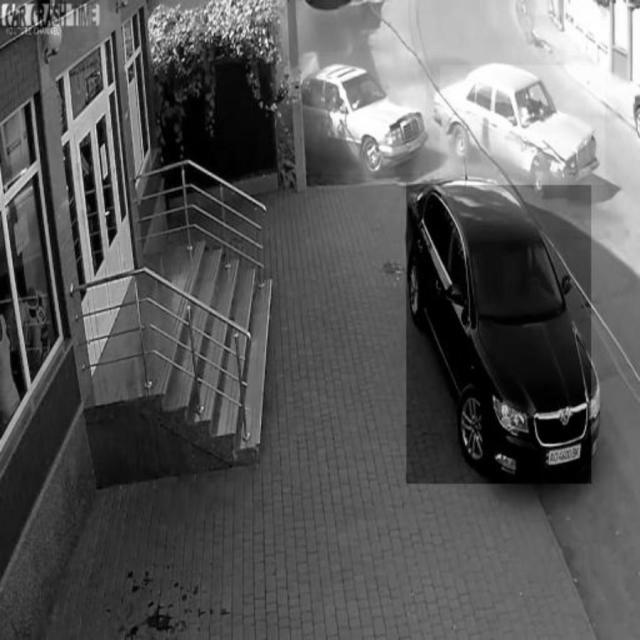vehicle: (406, 184, 591, 484), (440, 65, 605, 185), (302, 52, 426, 174)
